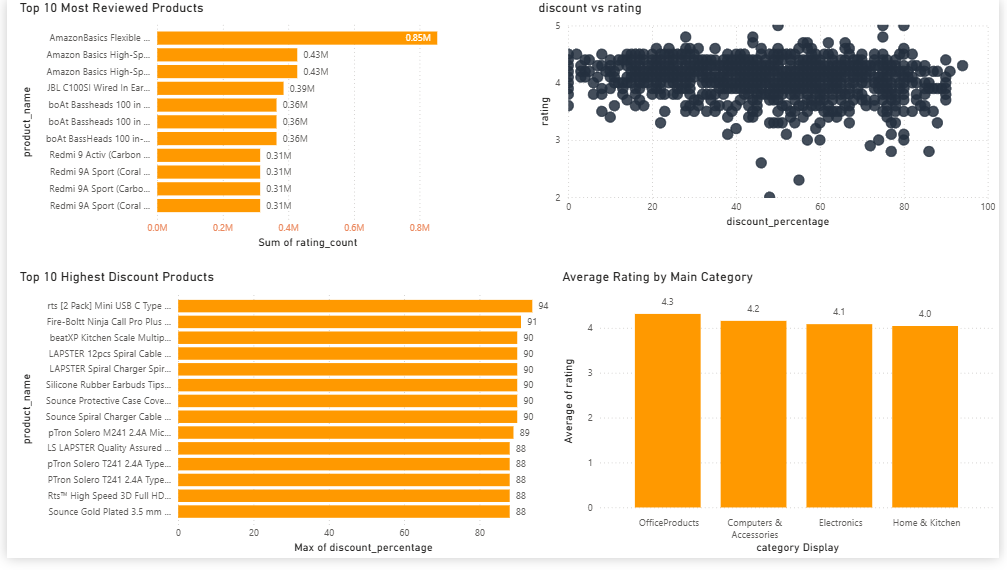

This screenshot's page, from the dashboard's own definition file:
{"tool":"powerbi","page":{"name":"Page 2","canvas":[1280,720],"ordinal":1},"visuals":[{"type":"clusteredBarChart","title":"Top 10 Most Reviewed Products","fields":{"Category":["amazon_final.product_name"],"Y":["Sum(amazon_final.rating_count)"]},"box":[10.8,0,590.5,325.7],"z":0},{"type":"clusteredBarChart","title":"Top 10 Highest Discount Products","fields":{"Category":["amazon_final.product_name"],"Y":["Max(amazon_final.discount_percentage)"]},"box":[10.6,347,700,372.7],"z":1000},{"type":"scatterChart","title":"discount vs rating","fields":{"X":["amazon_final.discount_percentage"],"Y":["amazon_final.rating"]},"box":[680.3,0,600,298.5],"z":2000},{"type":"lineClusteredColumnComboChart","title":"Average Rating by Main Category","fields":{"Category":["amazon_final.category Display"],"Y":["Avg(amazon_final.rating)"]},"box":[711,347,569,373],"z":3000}]}

Visuals, with their boxes in screenshot pixels (x1, y1, x2, y2), scaled from the page's 1280x720 canvas onto the 1007x570 screenshot:
"Top 10 Most Reviewed Products" clusteredBarChart: Rect(8, 0, 473, 258)
"Top 10 Highest Discount Products" clusteredBarChart: Rect(8, 275, 559, 569)
"discount vs rating" scatterChart: Rect(535, 0, 1006, 236)
"Average Rating by Main Category" lineClusteredColumnComboChart: Rect(559, 275, 1006, 569)
